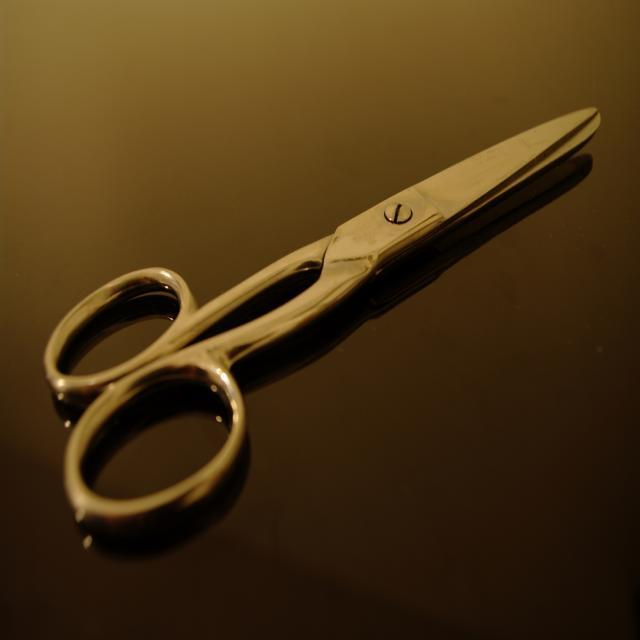scissors: (40, 100, 604, 546)
